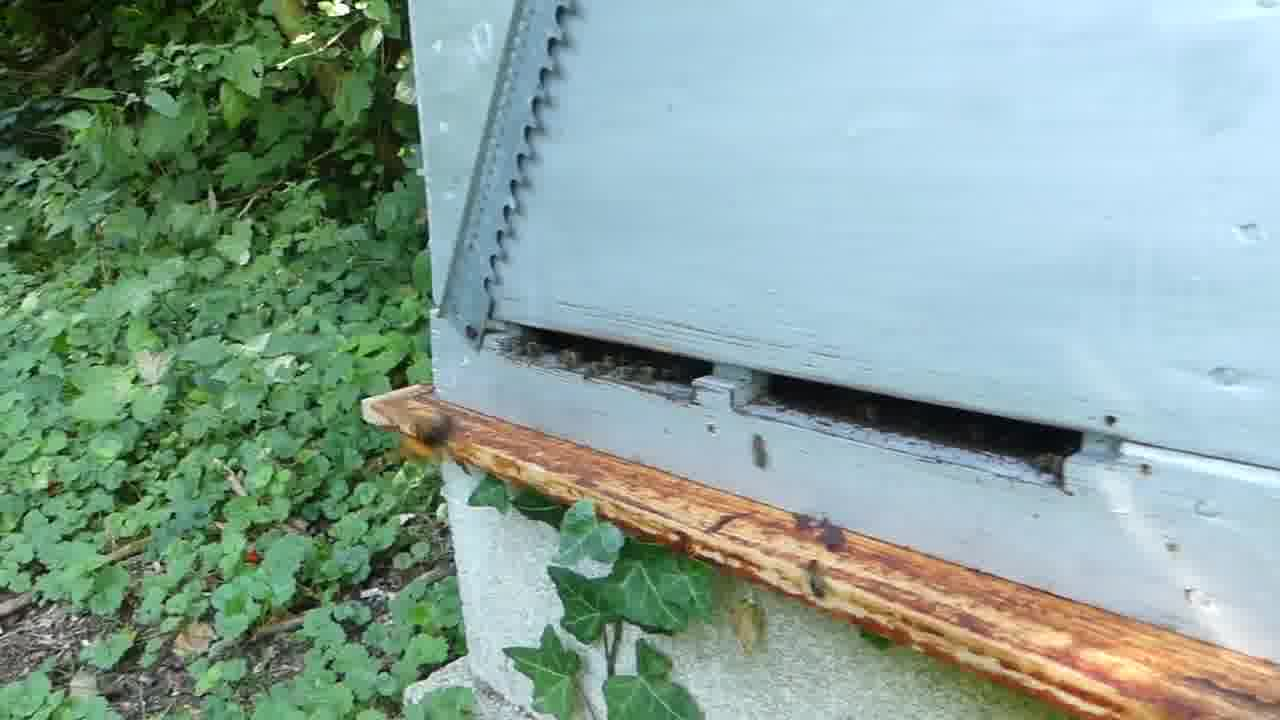bee: (751, 438, 774, 471)
